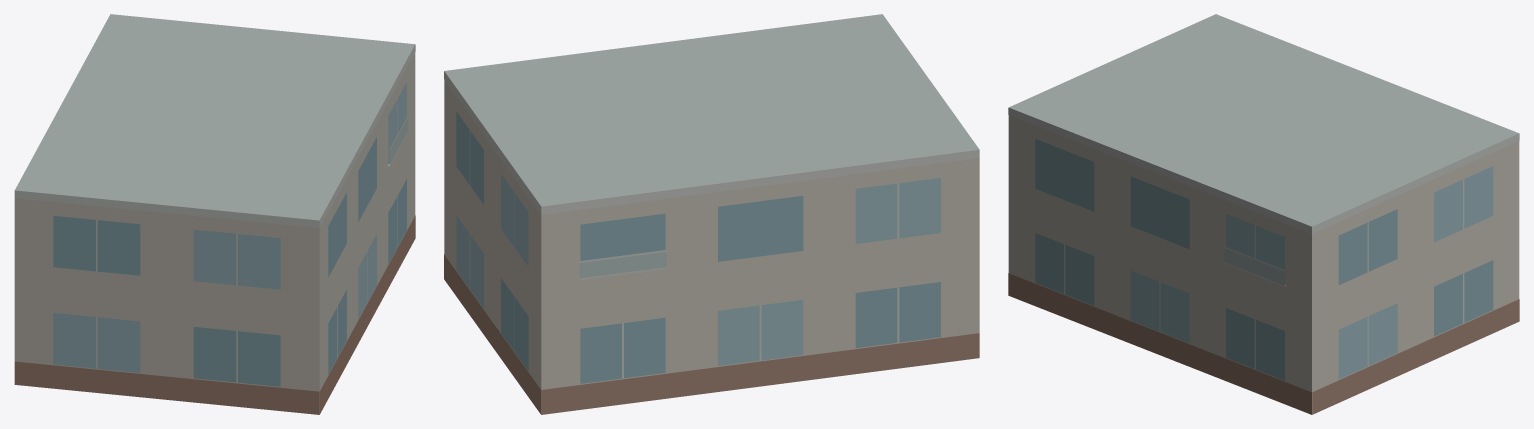
File: survey-upis-32712072.glb
3 views of the same model, side by side, from view 1: azimuth 30°, elevation 25°; view 2: azimuth 150°, elevation 25°; view 3: azimuth 270°, elevation 25° (orthographic). The views are drawn at different scales.
Parts seen in each view (by area): view 1: survey-upis-32712072.tmp; view 2: survey-upis-32712072.tmp; view 3: survey-upis-32712072.tmp.
Boxes of the visible parts, x1=… form: survey-upis-32712072.tmp: x1=14, y1=14, x2=415, y2=414; survey-upis-32712072.tmp: x1=444, y1=14, x2=979, y2=414; survey-upis-32712072.tmp: x1=1008, y1=14, x2=1519, y2=414.
Bounding box in the file's own units: 14.8 × 6.1 × 15.02.
